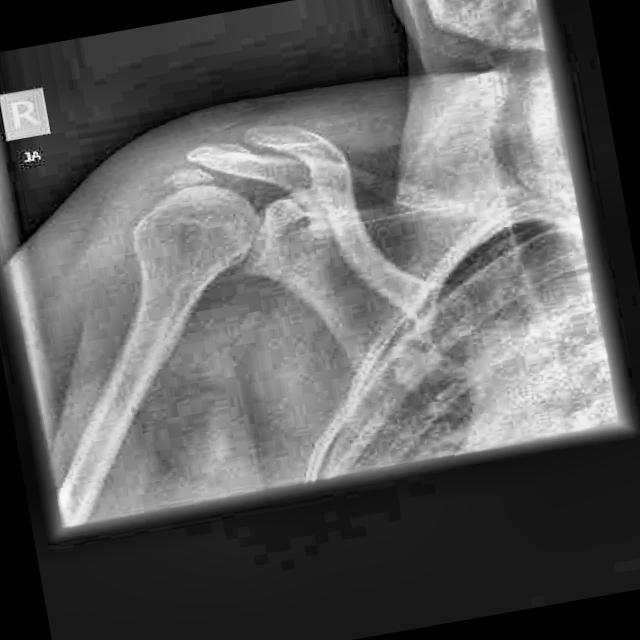shoulder fracture: (171, 102, 371, 213)
